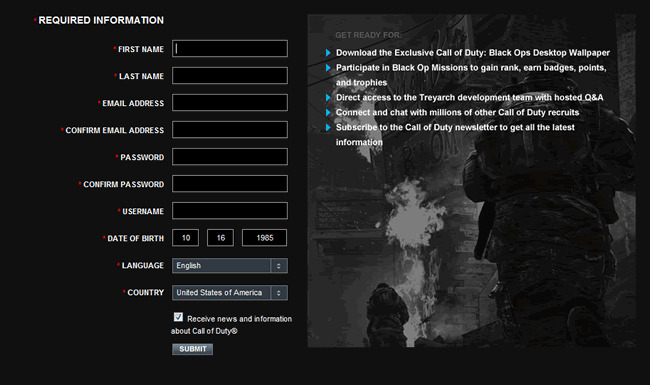_form_: (1, 1, 416, 385)
button: (170, 343, 214, 355)
checkbox: (172, 311, 186, 322)
checkbox_with_label: (171, 309, 292, 324)
field: (169, 92, 289, 111), (168, 173, 288, 192), (170, 147, 289, 166), (169, 66, 288, 84), (170, 120, 289, 138), (169, 201, 288, 219), (171, 39, 287, 56), (240, 228, 287, 247), (169, 227, 200, 246), (206, 228, 235, 247)
field_with_label: (64, 118, 291, 140), (100, 90, 291, 113), (83, 172, 290, 193), (120, 145, 291, 168), (116, 63, 290, 85), (118, 38, 289, 58), (121, 255, 291, 275), (121, 200, 289, 220), (127, 282, 289, 302), (106, 225, 201, 247)
select: (170, 256, 289, 274), (171, 284, 287, 300)
